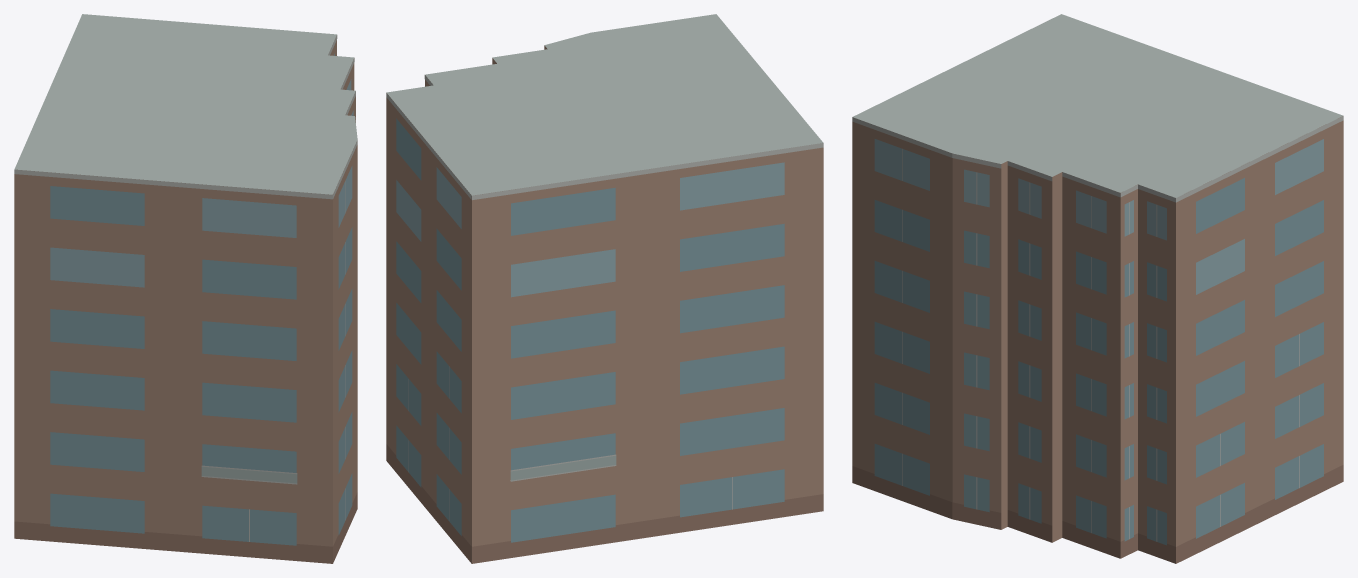
The model's file is survey-upis-32763567.glb.
3 renders of one model, left to right at view 1: azimuth 30°, elevation 25°; view 2: azimuth 150°, elevation 25°; view 3: azimuth 270°, elevation 25°, orthographic.
Parts seen in each view (by area): view 1: survey-upis-32763567.tmp; view 2: survey-upis-32763567.tmp; view 3: survey-upis-32763567.tmp.
Part boxes in pixels (x1=…): survey-upis-32763567.tmp: x1=14, y1=14, x2=357, y2=563; survey-upis-32763567.tmp: x1=386, y1=14, x2=823, y2=563; survey-upis-32763567.tmp: x1=852, y1=14, x2=1343, y2=563.
Bounding box in the file's own units: 21.21 × 19.65 × 23.92.
